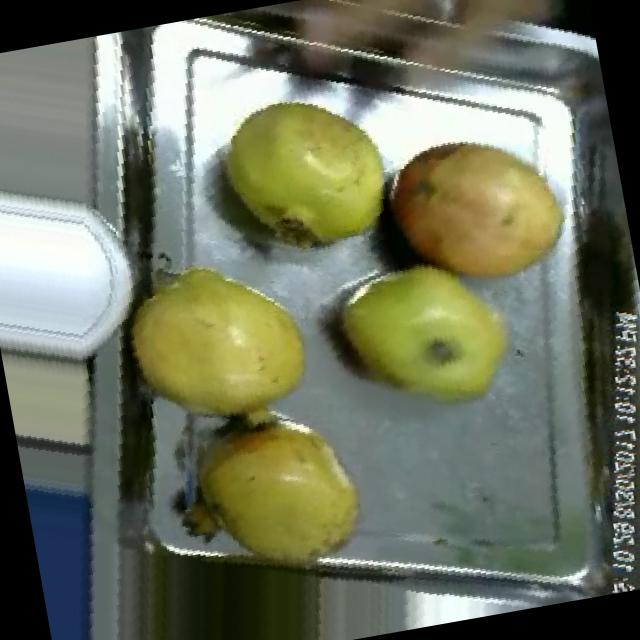fruit: (91, 213, 338, 458), (355, 95, 604, 328), (306, 218, 551, 452), (192, 58, 426, 284), (152, 388, 392, 606)
